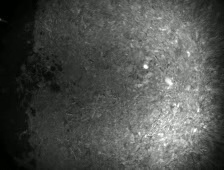corn: (141, 62, 150, 71)
